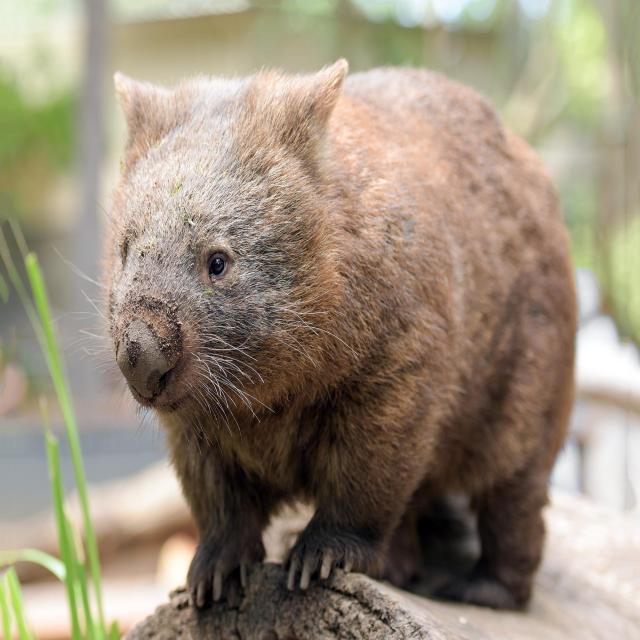Wombat: (102, 51, 576, 615)
